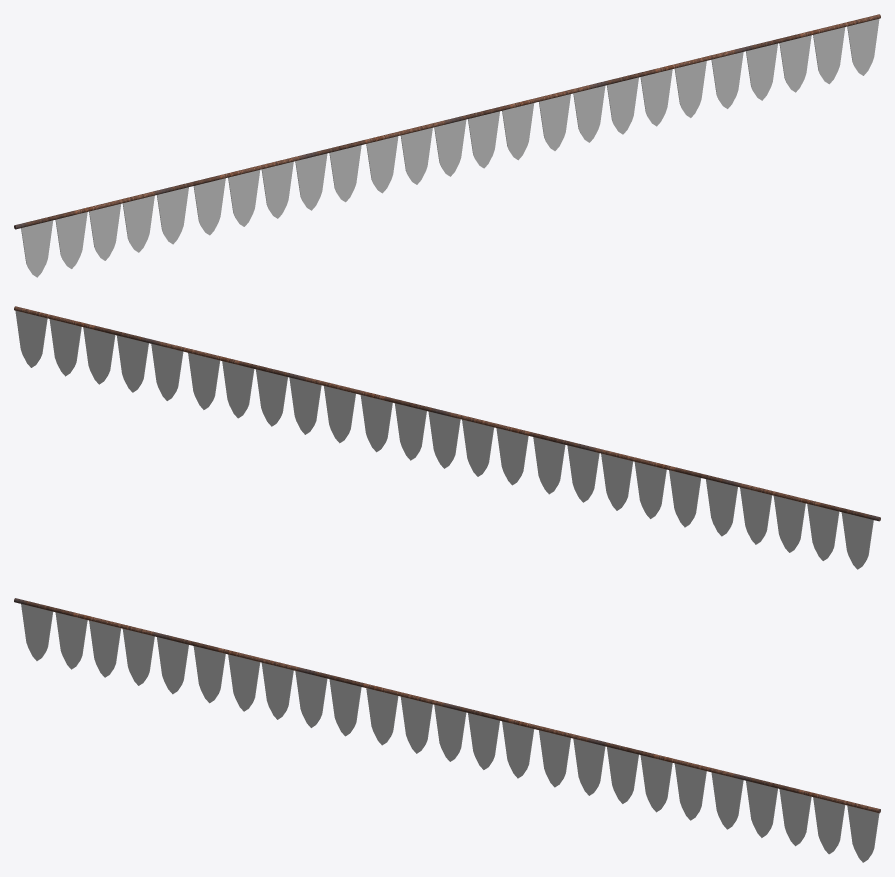
The model's file is lenta4.FBX.
The picture shows the model from 3 angles, top to bottom: view 1: azimuth 30°, elevation 25°; view 2: azimuth 150°, elevation 25°; view 3: azimuth 330°, elevation 25°; orthographic projection.
Visible parts, largest first — view 1: Box003, Box004, Box005, Box001, Box002, Cylinder001; view 2: Box005, Box003, Box001, Box002, Box004, Cylinder001; view 3: Box002, Box004, Box001, Box005, Box003, Cylinder001.
Boxes of the visible parts, <box> form: Box003: <box>366,103,534,193</box>; Box004: <box>193,145,361,235</box>; Box005: <box>21,187,188,277</box>; Box001: <box>711,19,879,108</box>; Box002: <box>539,61,706,150</box>; Cylinder001: <box>14,14,880,229</box>; Box005: <box>706,479,873,569</box>; Box003: <box>360,395,528,485</box>; Box001: <box>15,310,183,400</box>; Box002: <box>188,353,355,443</box>; Box004: <box>533,437,701,527</box>; Cylinder001: <box>14,306,880,521</box>; Box002: <box>539,730,706,820</box>; Box004: <box>193,646,361,736</box>; Box001: <box>711,772,879,862</box>; Box005: <box>21,604,188,694</box>; Box003: <box>366,688,534,778</box>; Cylinder001: <box>14,598,880,813</box>.
Bounding box in the file's own units: 454 × 28.86 × 1.95.
